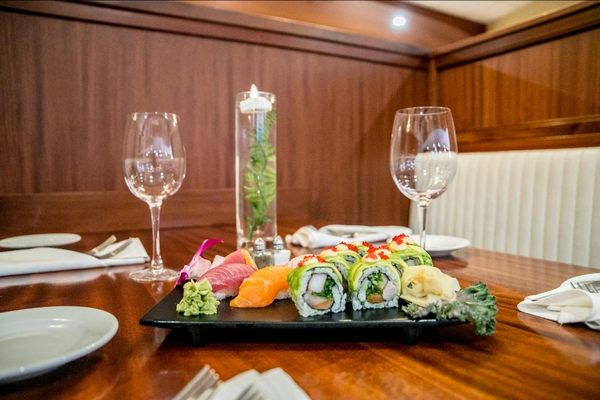burger: (174, 364, 220, 399)
curry: (175, 278, 221, 318)
